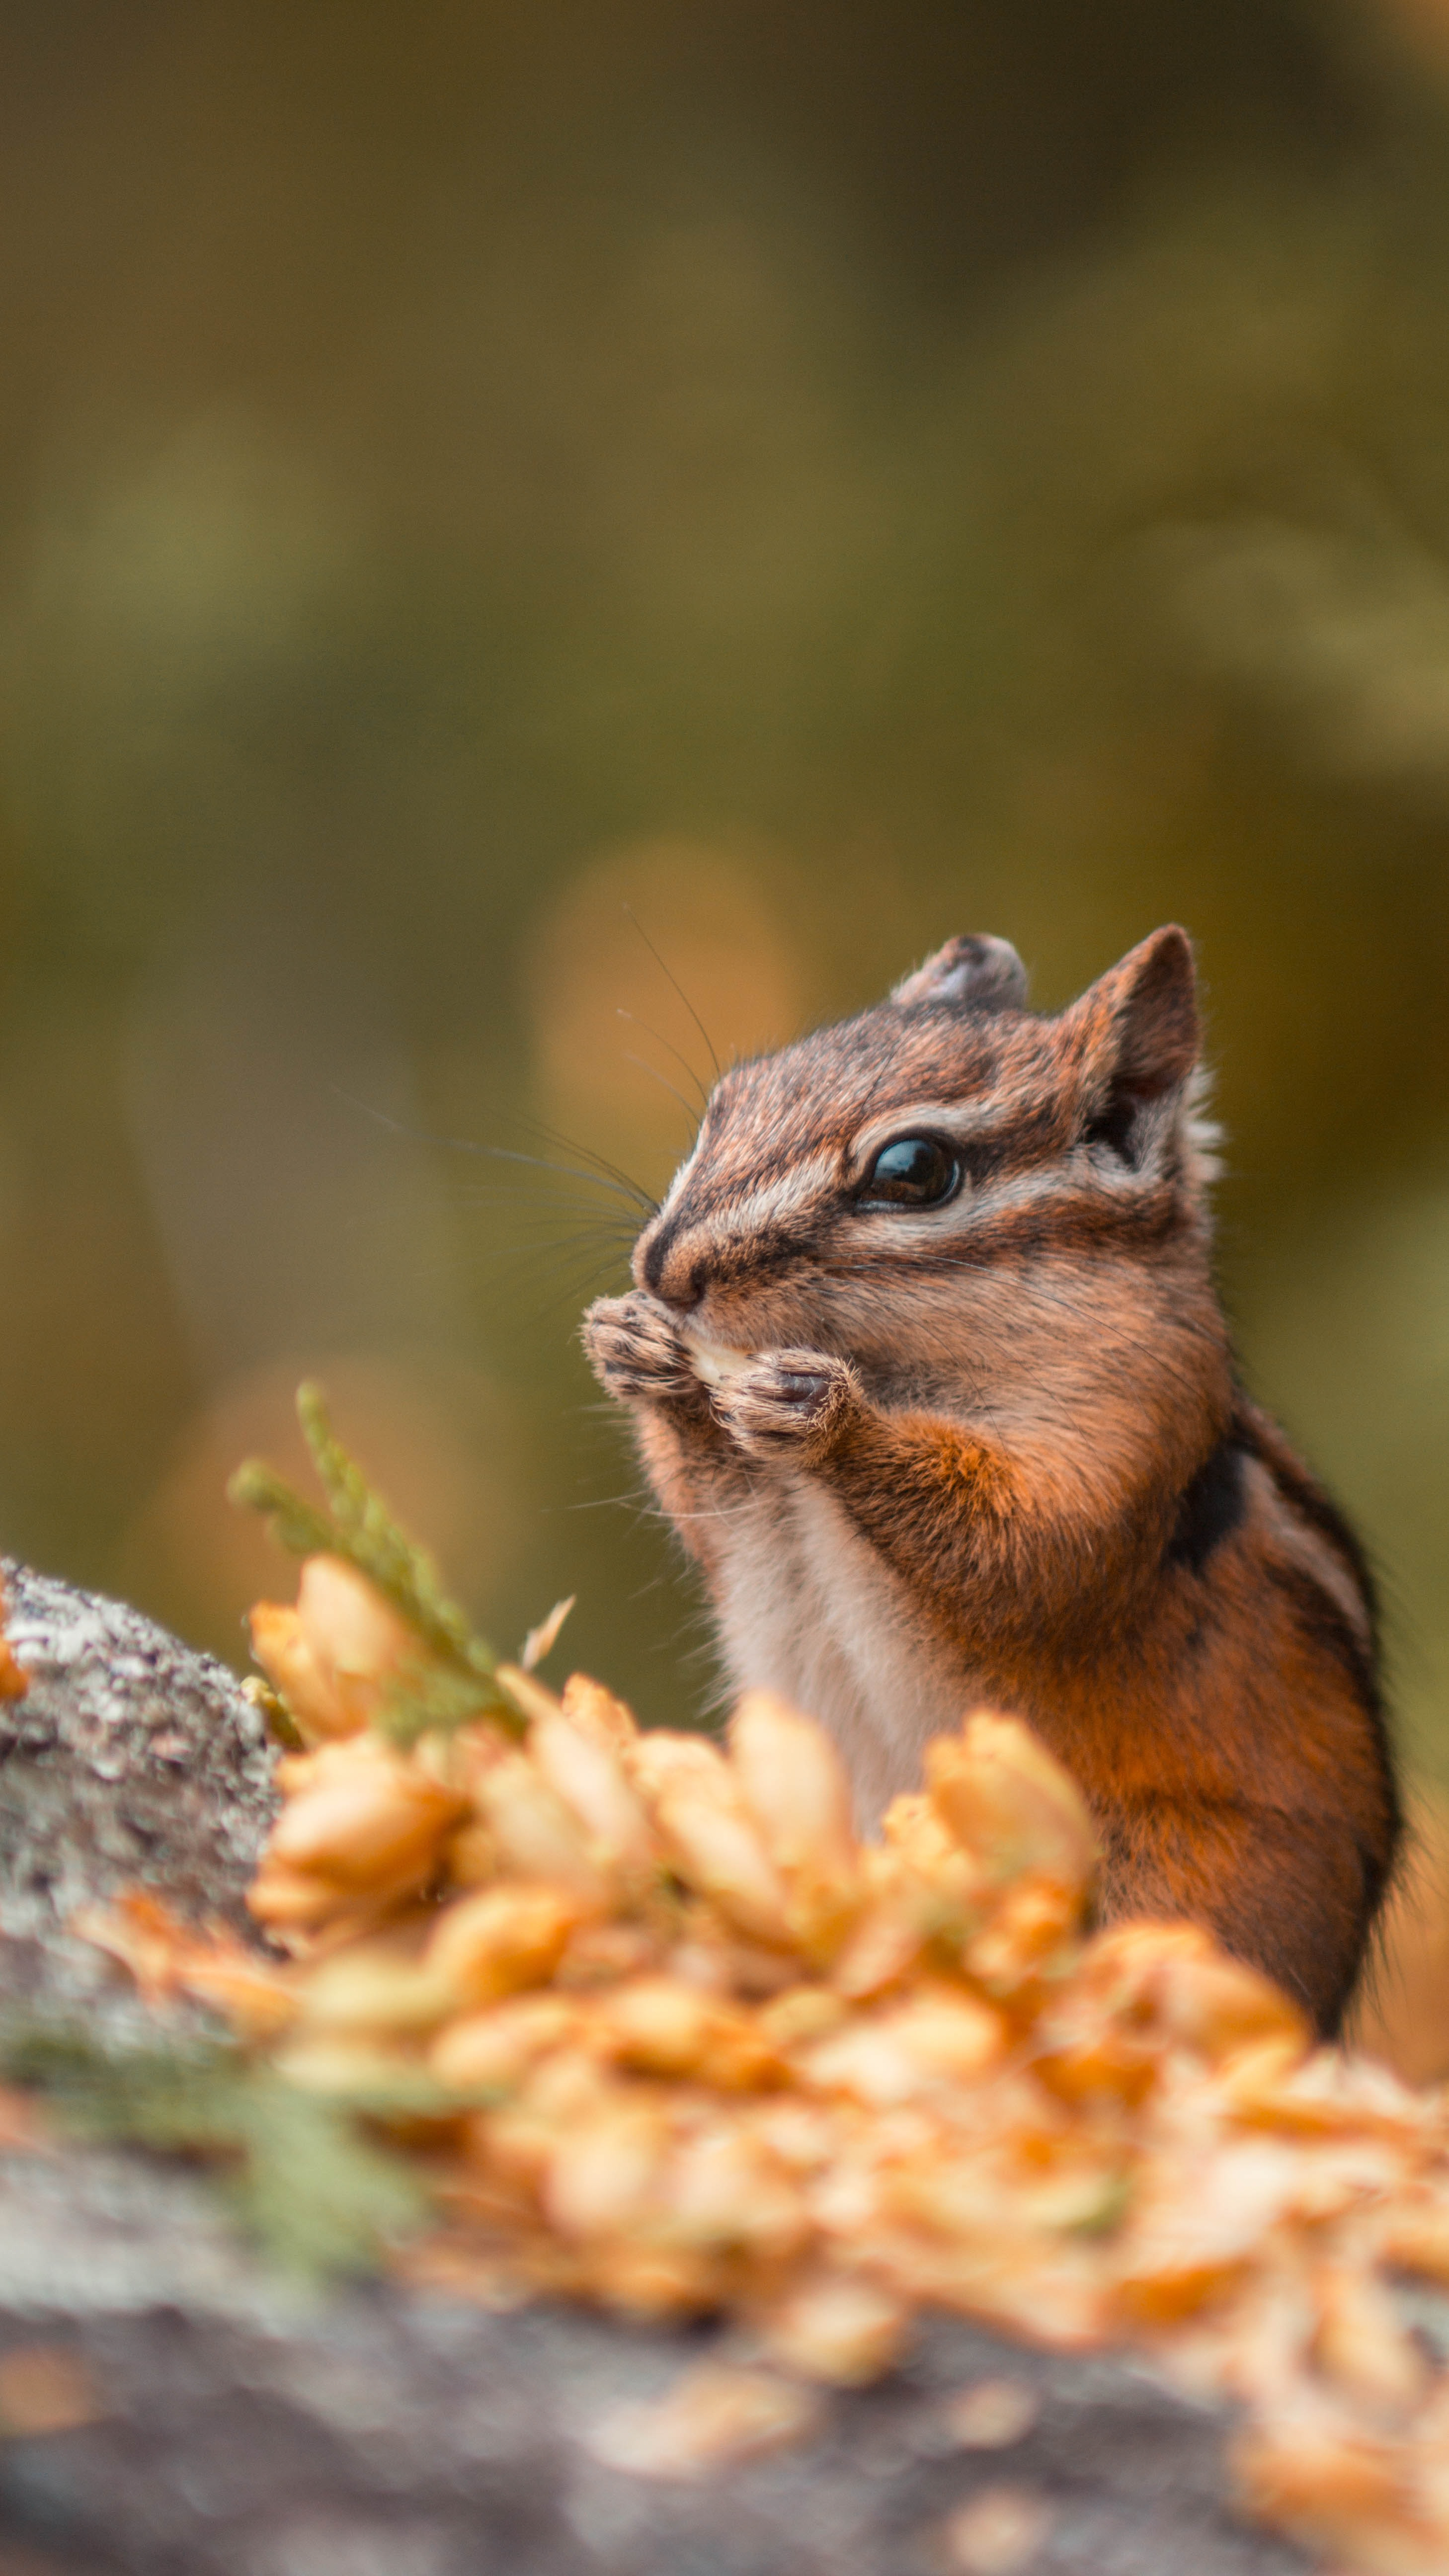squirrel: (579, 885, 1405, 2058)
